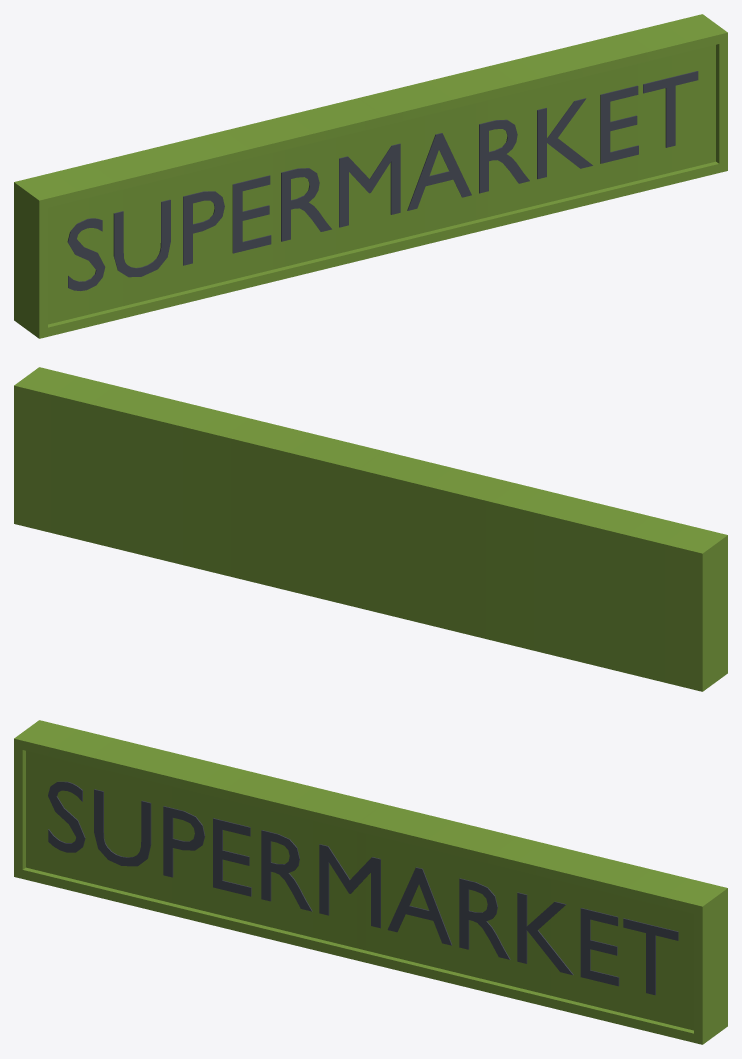
File: Banner_20.fbx
3 views of the same model, one above another, from view 1: azimuth 30°, elevation 25°; view 2: azimuth 150°, elevation 25°; view 3: azimuth 330°, elevation 25° (orthographic).
Parts seen in each view (by area): view 1: Banner_20; view 2: Banner_20; view 3: Banner_20.
Boxes of the visible parts, bbox=[...] form: Banner_20: bbox=[14, 14, 727, 338]; Banner_20: bbox=[14, 367, 727, 691]; Banner_20: bbox=[14, 720, 727, 1044].
Size of the model in its own units: 4.39 by 0.8434 by 0.2801.
